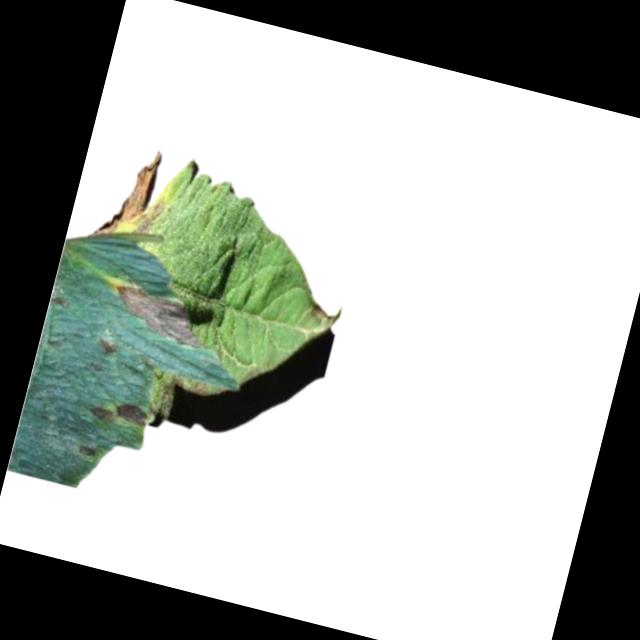Early_blight: (92, 140, 174, 253), (105, 279, 211, 352), (87, 394, 151, 430), (96, 336, 117, 357)
